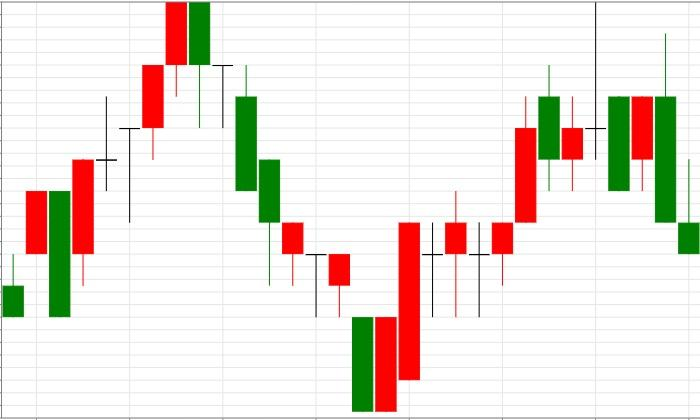bearish_engulfing_fall: (72, 2, 211, 286)
bullish_engulfing_rise: (189, 2, 397, 412)
